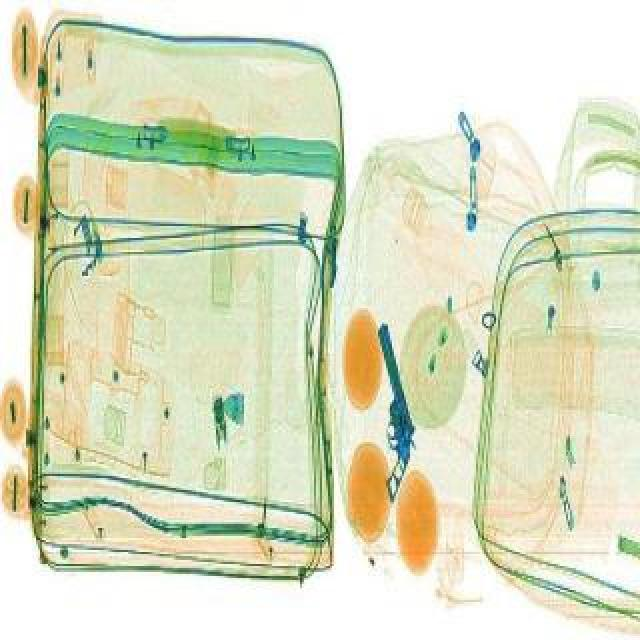gun: (336, 318, 440, 500)
